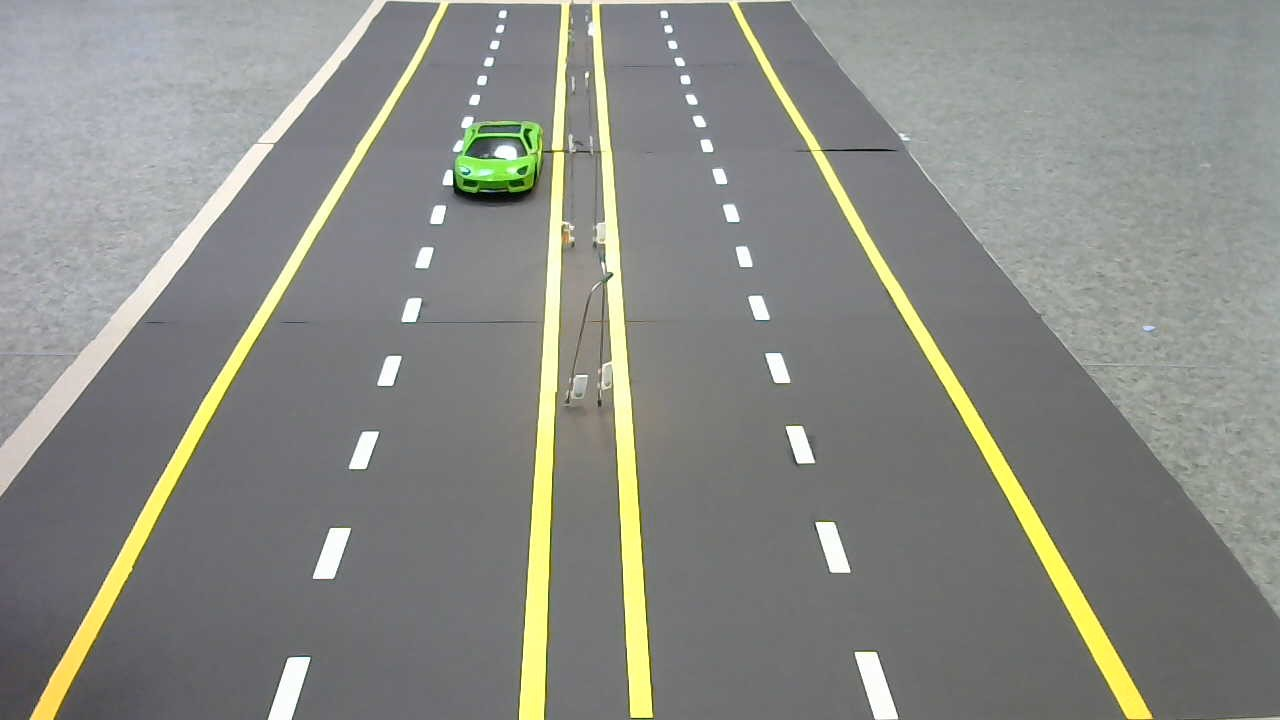front_car: (451, 117, 549, 207)
